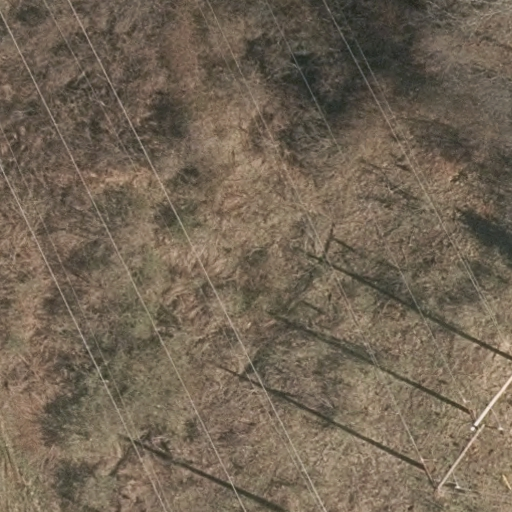DT: (416, 403, 487, 501), (461, 351, 512, 433)
